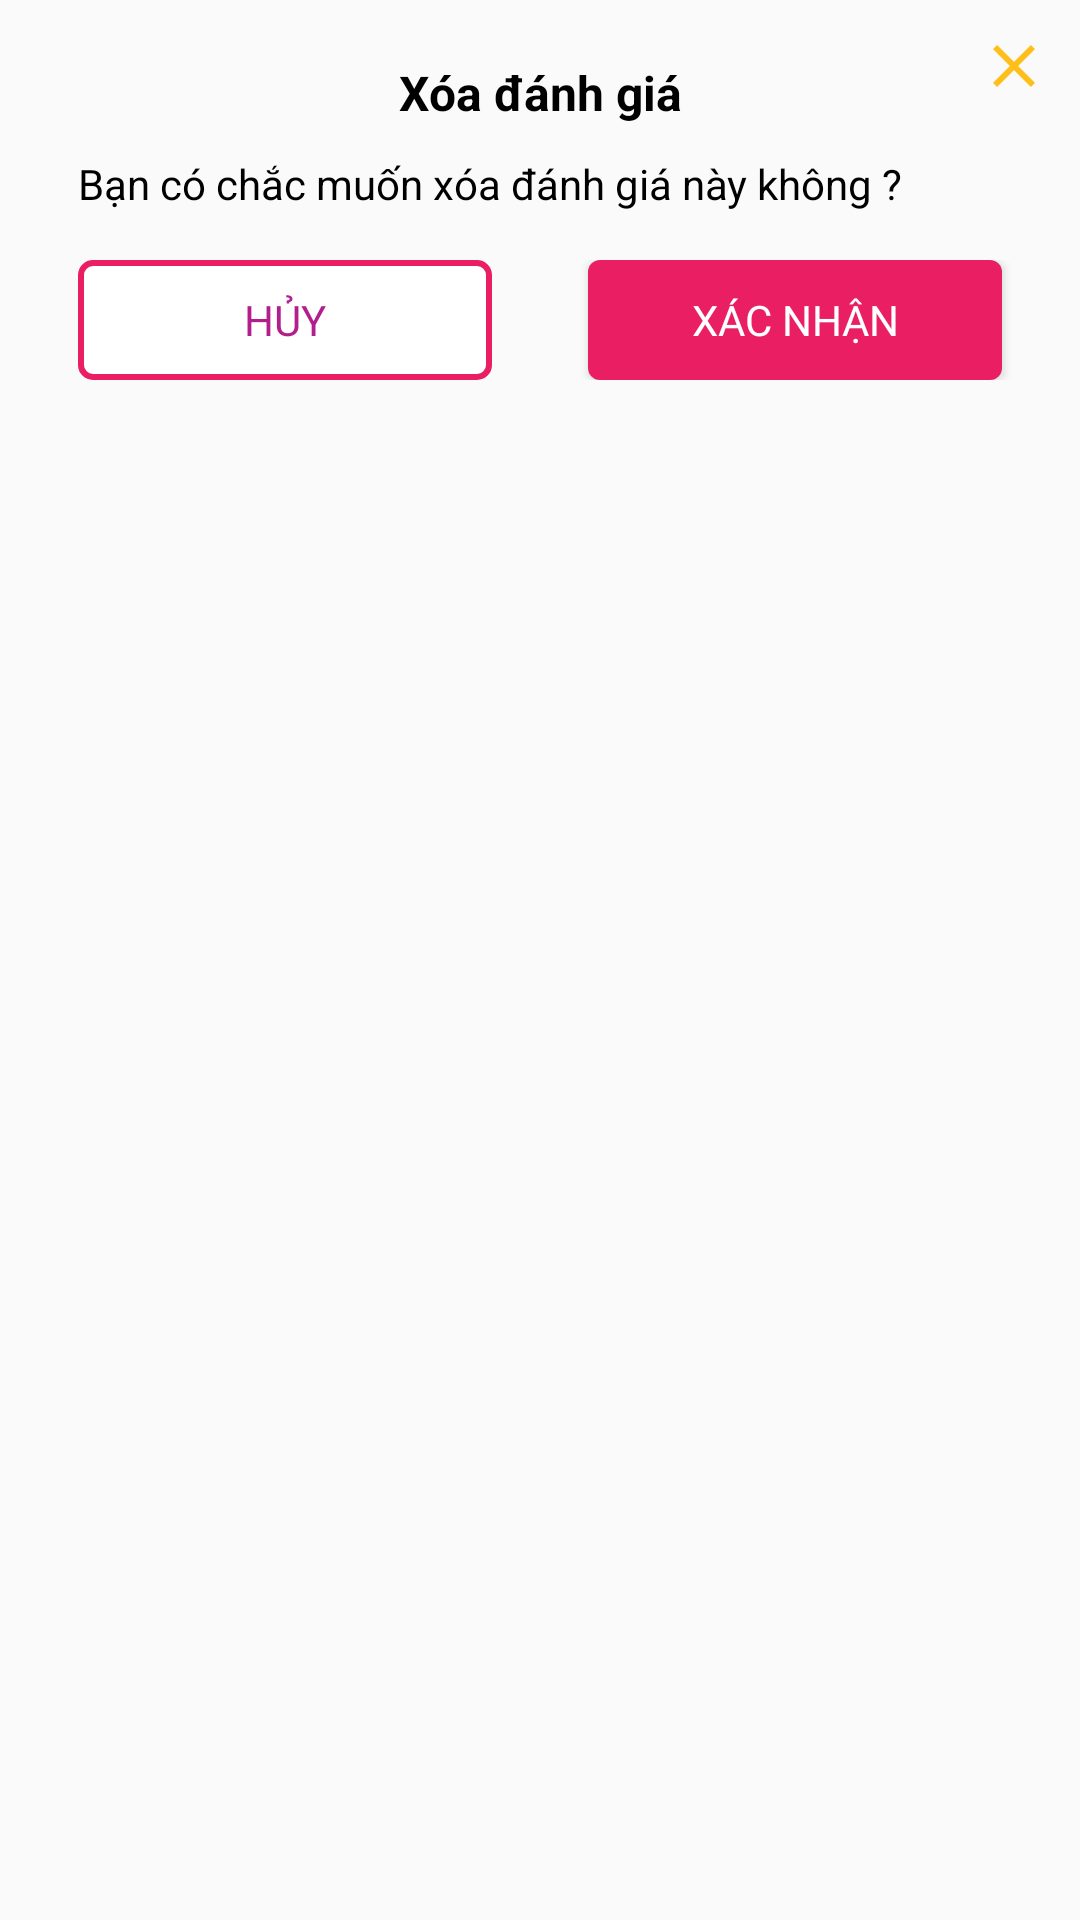

Where icons sit on this 1080*1920 app screen, as (x1, y1, x2, y2):
close: (993, 45, 1035, 87)
